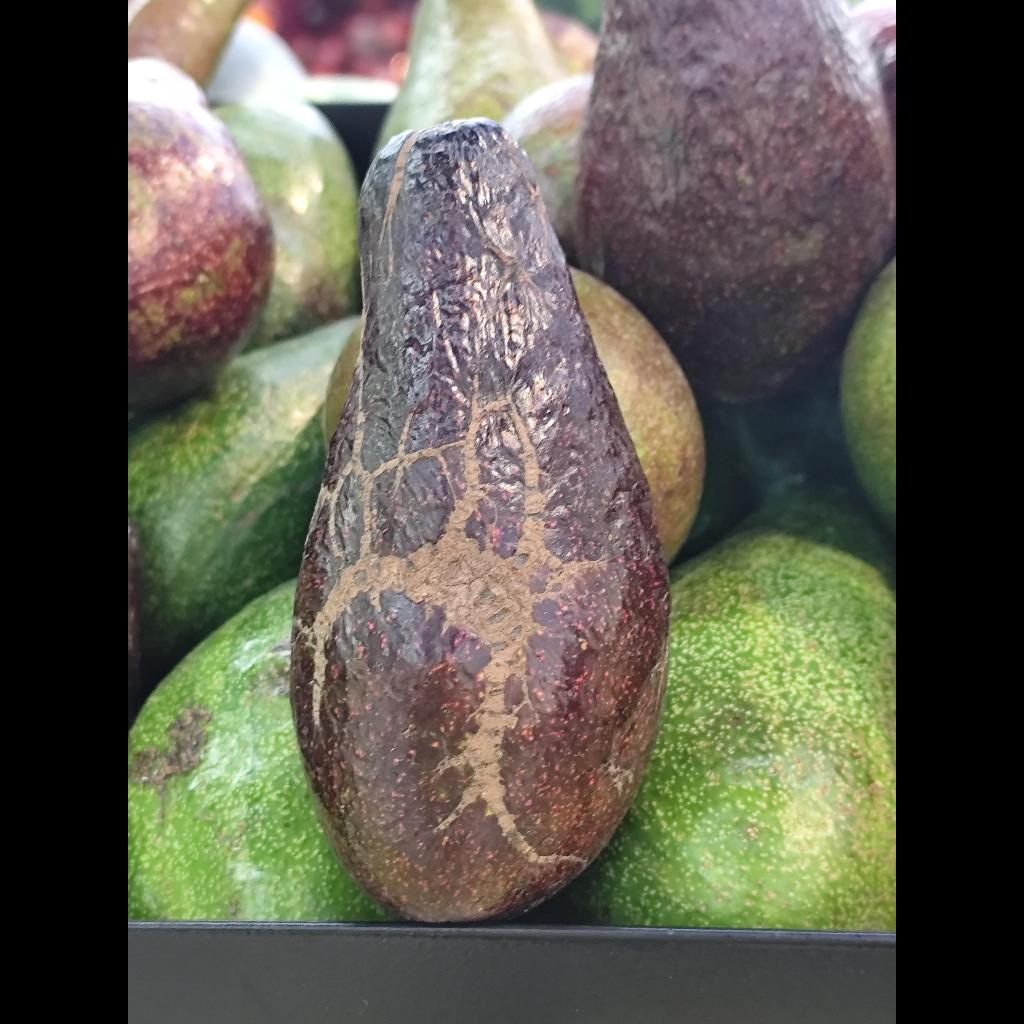rona: (291, 120, 670, 921)
